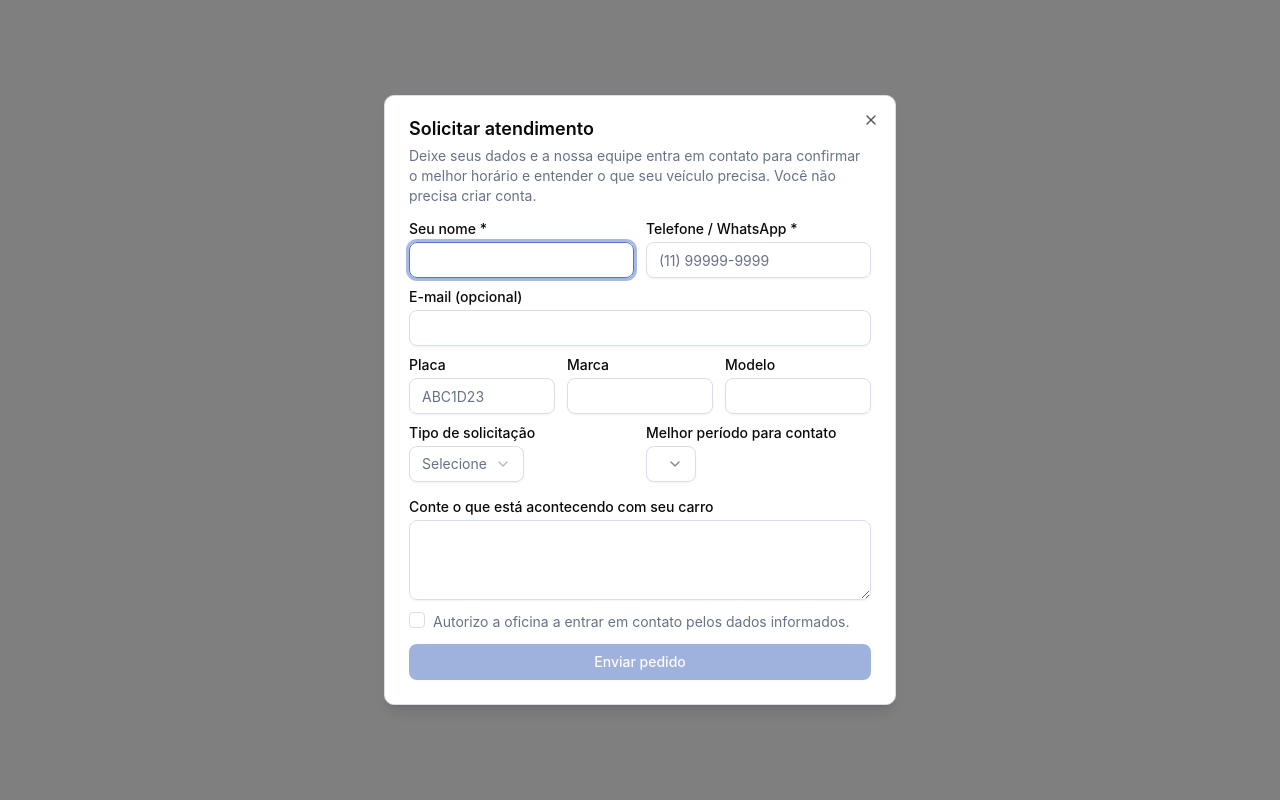
Test case: PublicRequestForm › masks the phone as the visitor types raw digits
This screenshot has width=1280, height=800.
Type "11999998888" into the field labelled "Telefone / WhatsApp *" at (758, 260), box [646,242,871,278]
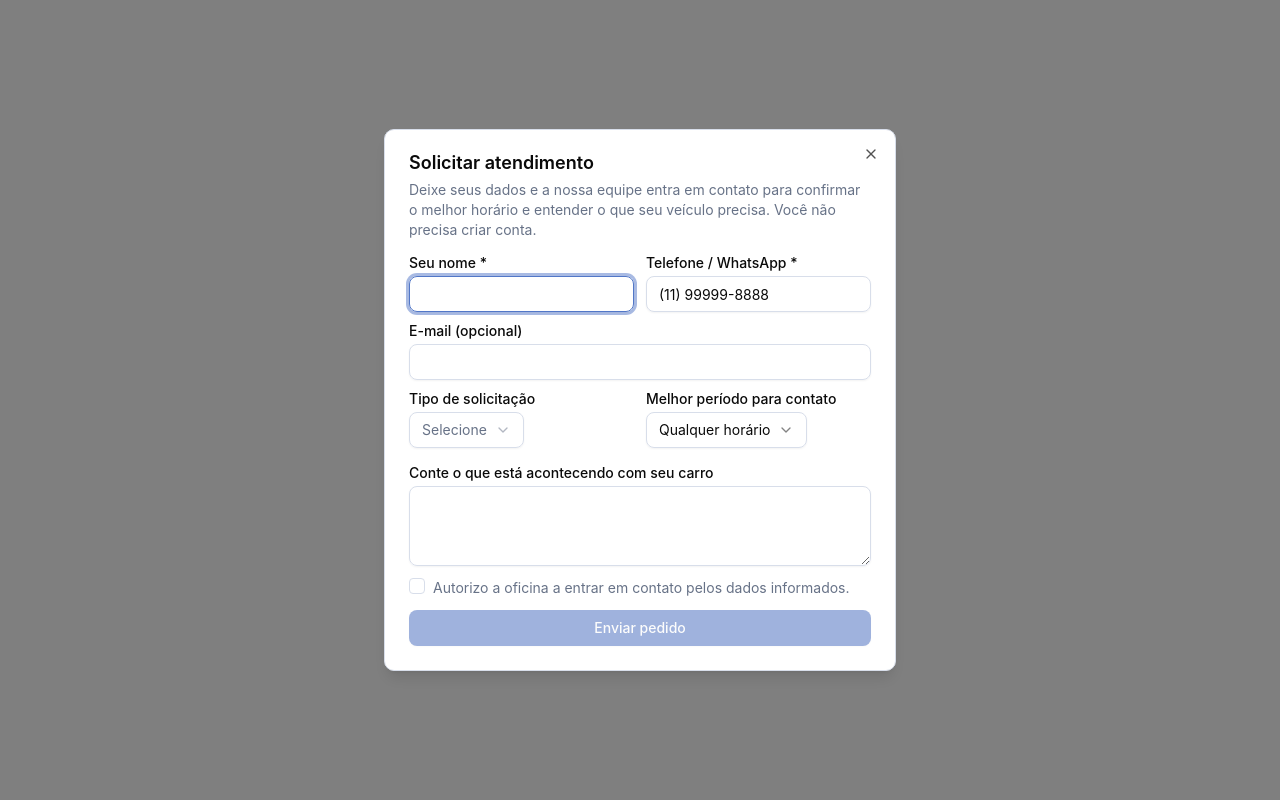
Now the field labelled "Telefone / WhatsApp *" holds "(11) 99999-8888", box [646,276,871,312]
